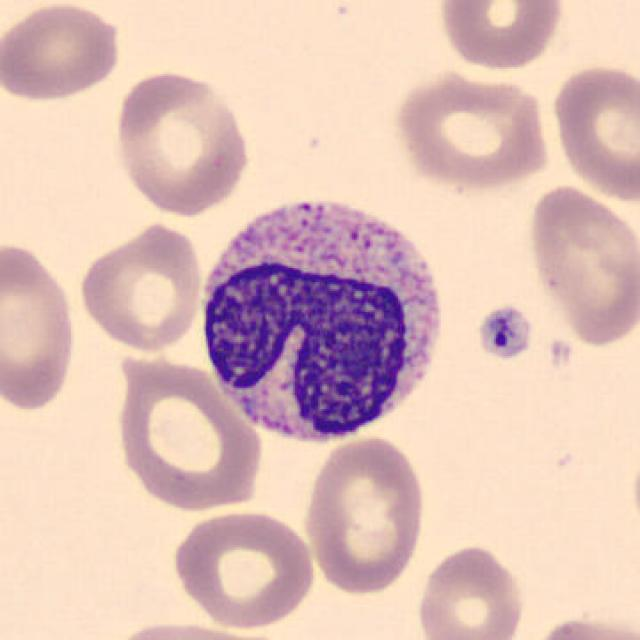Neutrophil: (192, 182, 455, 458)
Platelets: (475, 302, 535, 362)
RBC: (108, 349, 266, 515), (108, 65, 254, 219), (299, 432, 430, 596), (389, 67, 555, 194), (523, 180, 638, 349), (167, 508, 318, 631), (75, 218, 206, 354), (0, 233, 80, 416), (0, 0, 126, 106), (548, 60, 638, 204), (412, 541, 528, 640), (433, 0, 567, 72), (97, 617, 276, 640), (524, 613, 636, 640)
